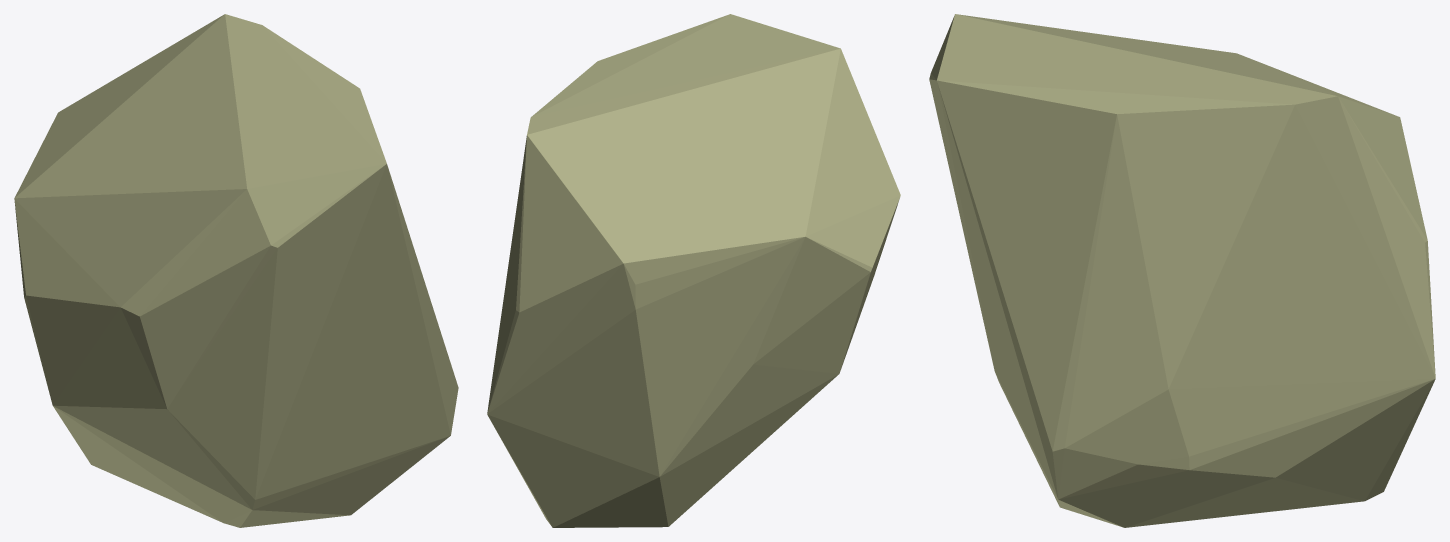
The model's file is drivetrain_transfer_case_a01.glb.
3 renders of one model, left to right at view 1: azimuth 30°, elevation 25°; view 2: azimuth 150°, elevation 25°; view 3: azimuth 270°, elevation 25°, orthographic. The views are drawn at different scales.
Visible parts, largest first — view 1: geometry_0; view 2: geometry_0; view 3: geometry_0.
Part boxes in pixels (bbox=[...]): geometry_0: bbox=[14, 14, 458, 527]; geometry_0: bbox=[487, 14, 900, 527]; geometry_0: bbox=[929, 14, 1435, 527].
Size of the model in its own units: 0.4193 by 0.4219 by 0.4578.
